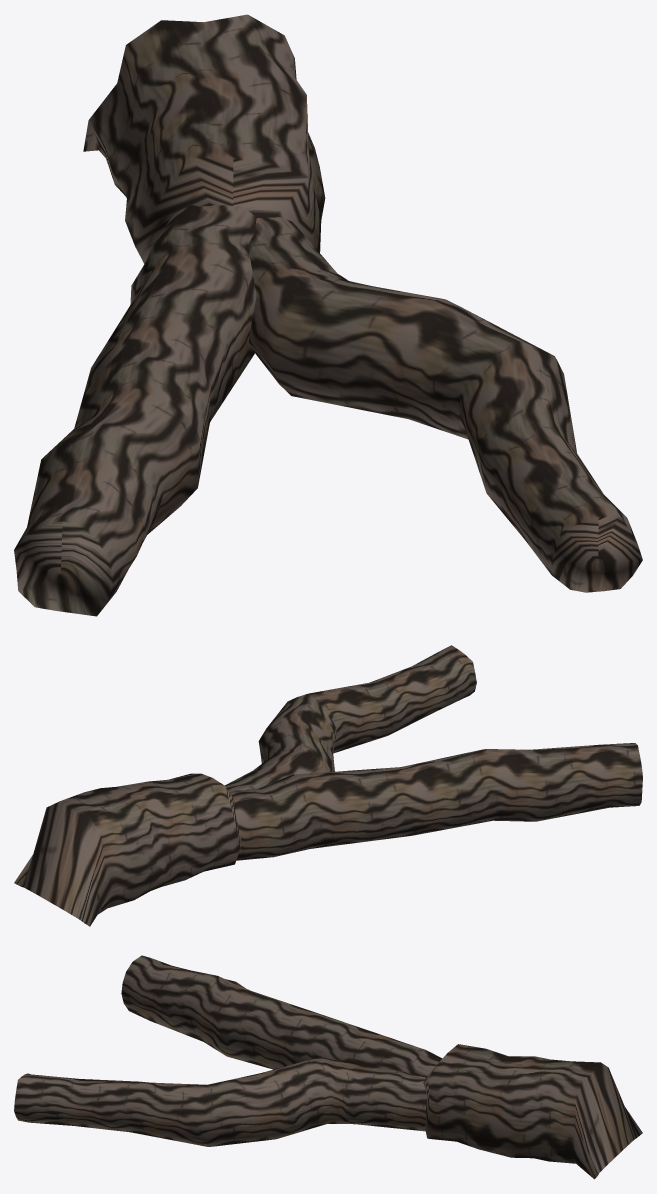
Rendered from fallen-b.lod0.glb.
The picture shows the model from 3 angles, top to bottom: view 1: azimuth 30°, elevation 25°; view 2: azimuth 150°, elevation 25°; view 3: azimuth 270°, elevation 25°; orthographic projection. The views are drawn at different scales.
Visible parts, largest first — view 1: bark; view 2: bark; view 3: bark.
Part boxes in pixels (bbox=[...]): bark: bbox=[14, 14, 642, 616]; bark: bbox=[14, 645, 642, 926]; bark: bbox=[14, 955, 642, 1179].
Bounding box in the file's own units: 2.67 × 0.5597 × 3.91.
1 material, 1 textured.
